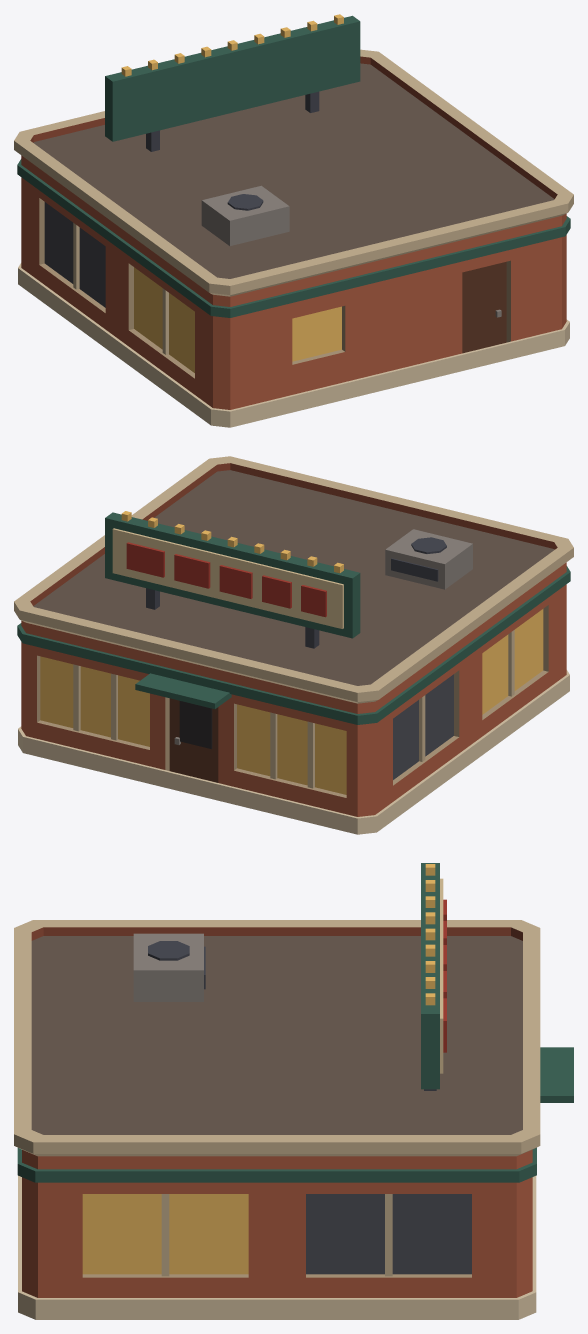
File: Bldg_Diner.fbx
3 views of the same model, one above another, from view 1: azimuth 30°, elevation 25°; view 2: azimuth 150°, elevation 25°; view 3: azimuth 270°, elevation 25° (orthographic). The views are drawn at different scales.
Visible parts, largest first — view 1: Bldg_Diner; view 2: Bldg_Diner; view 3: Bldg_Diner.
Part boxes in pixels (bbox=[...]): Bldg_Diner: bbox=[14, 14, 573, 427]; Bldg_Diner: bbox=[14, 456, 573, 834]; Bldg_Diner: bbox=[14, 863, 573, 1319].
Size of the model in its own units: 1650 by 968 by 1755.
Materials: 1 (1 with a texture image).
